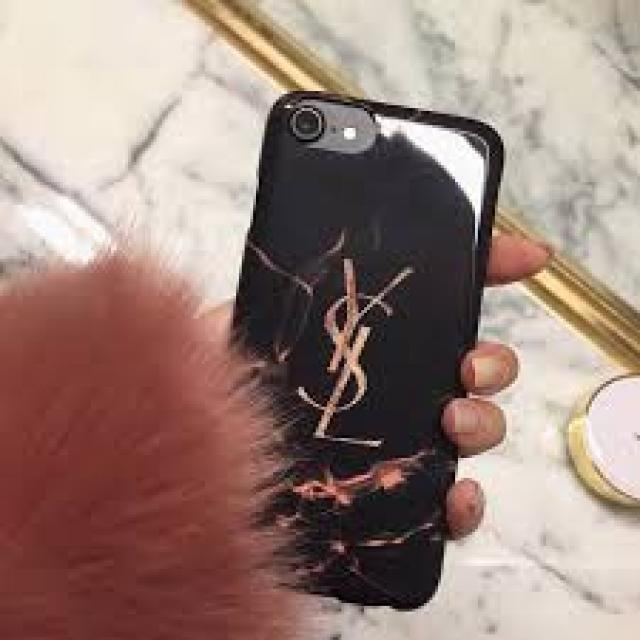Phone: (192, 94, 502, 614)
